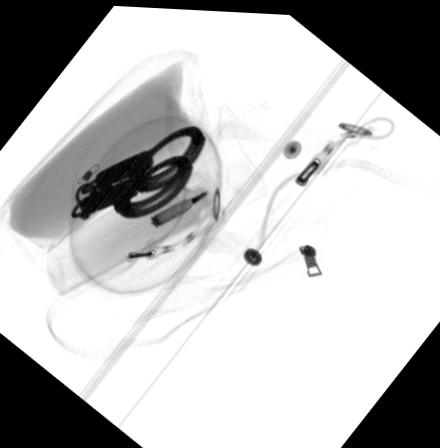Bullet: (150, 188, 209, 226)
HandCuffs: (68, 120, 207, 219)
